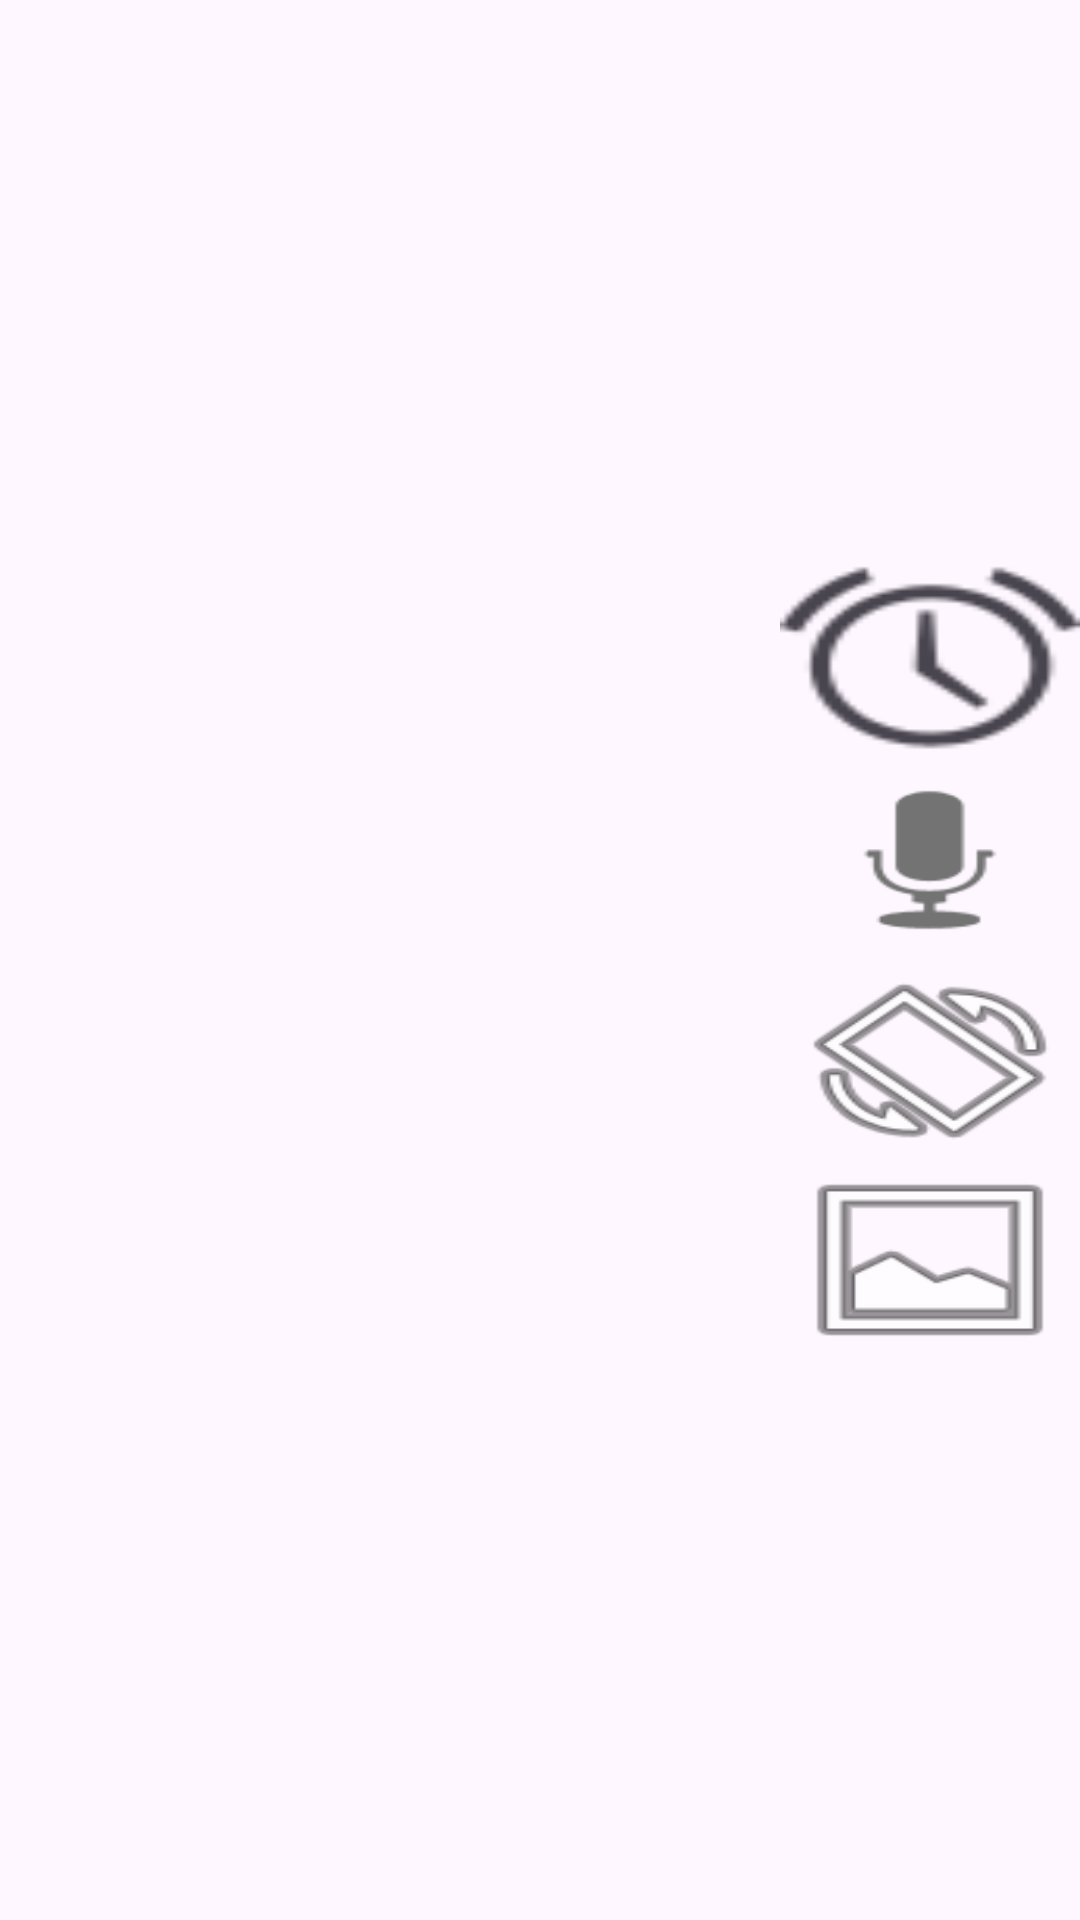

Icon click points for this 1080px x 1920px phone screenshot, format point (x, y):
always landscape portrait: point (930, 1061)
gallery: point (930, 1260)
lock idle alarm: point (930, 658)
speak now: point (930, 860)
